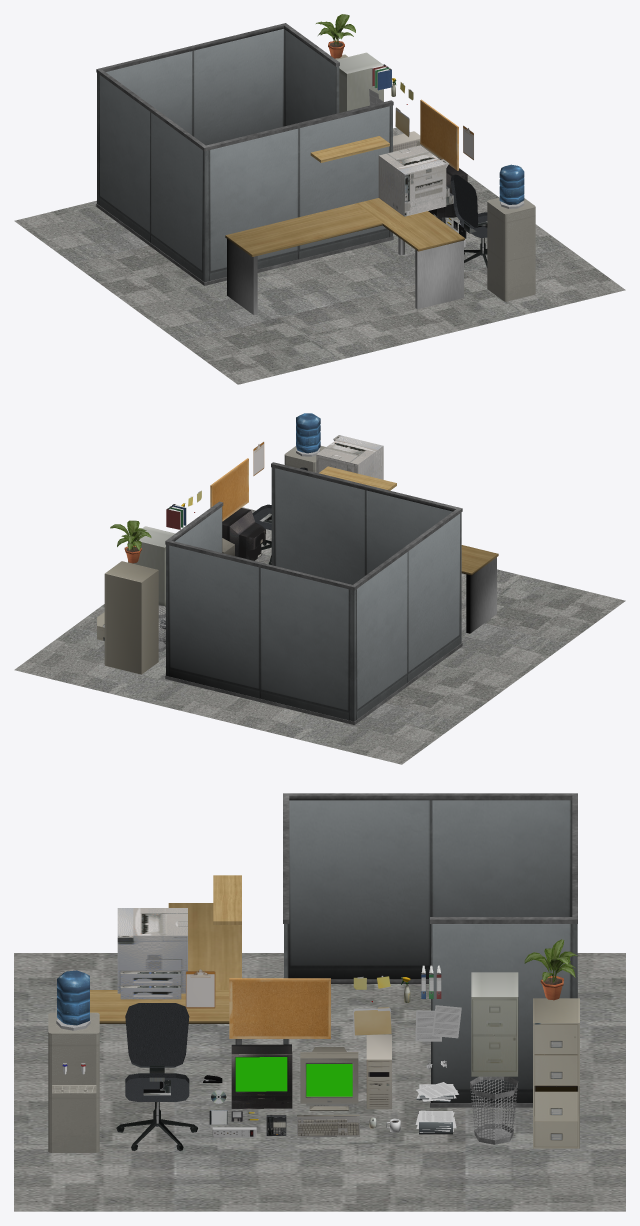
Rendered from low_poly_office_cubicle_assets.glb.
The picture shows the model from 3 angles, top to bottom: view 1: azimuth 30°, elevation 25°; view 2: azimuth 150°, elevation 25°; view 3: azimuth 270°, elevation 25°; orthographic projection. The views are drawn at different scales.
Visible parts, largest first — view 1: Cubicle, Carpetimg, Cubicle Desk, Water Cooler, Printer, 2 Drawer Filing Cabinet, Corkboard, Chair, Shelf, Water Jug, Potted Plant, Panasonic VHS TV; view 2: Cubicle, Carpetimg, 4 Drawer Filing Cabinet, Cubicle Desk, Printer, Panasonic VHS TV, Corkboard, 2 Drawer Filing Cabinet, Water Jug, Potted Plant, Shelf, Water Cooler (+1 smaller); view 3: Carpetimg, Cubicle, Water Cooler, Chair, Corkboard, Cubicle Desk, 4 Drawer Filing Cabinet, 2 Drawer Filing Cabinet, Printer, Panasonic VHS TV, Computer Monitor, Trash Cam (+13 smaller).
Boxes of the visible parts, x1,y1,x2,y2 form: Cubicle: (96,23,393,285); Carpetimg: (14,127,625,384); Cubicle Desk: (225,198,464,314); Water Cooler: (487,197,535,301); Printer: (378,145,448,216); 2 Drawer Filing Cabinet: (337,52,383,112); Corkboard: (420,99,458,170); Chair: (450,174,487,267); Shelf: (310,136,389,162); Water Jug: (499,164,524,204); Potted Plant: (316,14,355,58); Panasonic VHS TV: (428,159,467,218); Cubicle: (165,462,462,724); Carpetimg: (14,507,625,764); 4 Drawer Filing Cabinet: (104,561,158,674); Cubicle Desk: (461,545,498,633); Printer: (316,435,383,479); Panasonic VHS TV: (222,508,265,560); Corkboard: (210,458,248,521); 2 Drawer Filing Cabinet: (128,526,175,605); Water Jug: (296,413,320,453); Potted Plant: (110,520,151,563); Shelf: (319,466,396,490); Water Cooler: (284,446,325,472); Carpetimg: (14,953,625,1211); Cubicle: (283,793,577,1107); Water Cooler: (48,1012,99,1152); Chair: (116,1003,197,1150); Corkboard: (229,978,330,1038); Cubicle Desk: (90,903,241,1044); 4 Drawer Filing Cabinet: (533,998,579,1148); 2 Drawer Filing Cabinet: (471,972,518,1076); Printer: (117,908,187,993); Panasonic VHS TV: (231,1044,292,1108); Computer Monitor: (300,1047,358,1110); Trash Cam: (470,1076,518,1144).
Bounding box in the file's own units: 4.17 × 1.53 × 4.17.
Materials: 34 (33 with a texture image).
